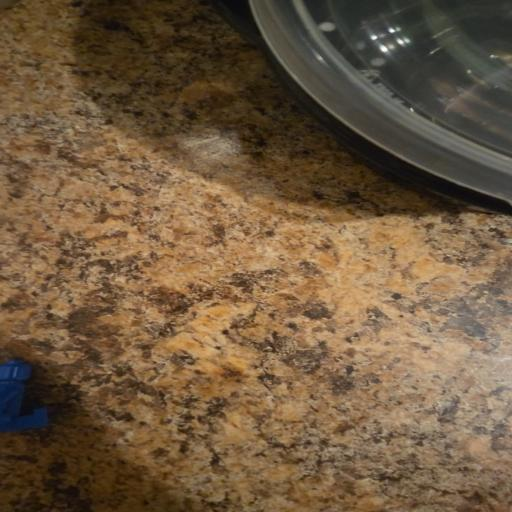Blue: (0, 360, 47, 433)
